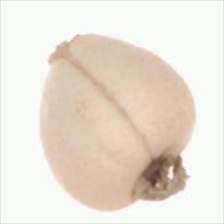L3: (46, 31, 83, 66)
L4: (39, 34, 197, 211)
